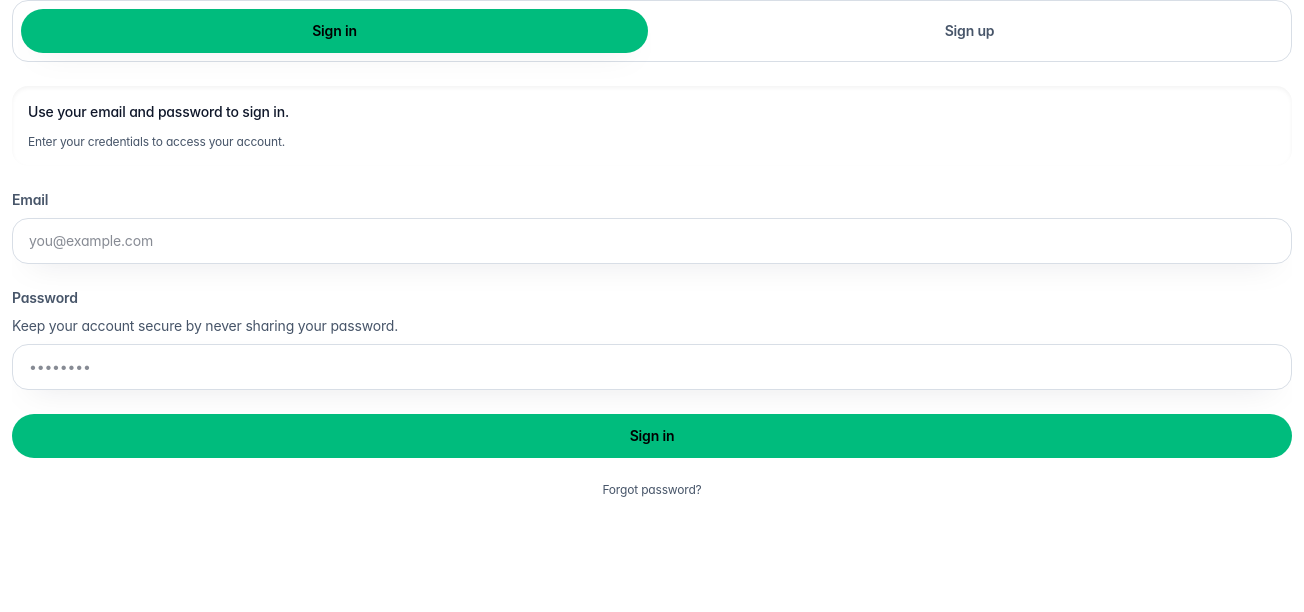
Test case: LoginForm › sign-up without immediate session prompts for email confirmation
The image size is (1304, 612).
Click the button "Sign up" at {"x": 970, "y": 31}, box [656,9,1283,53]
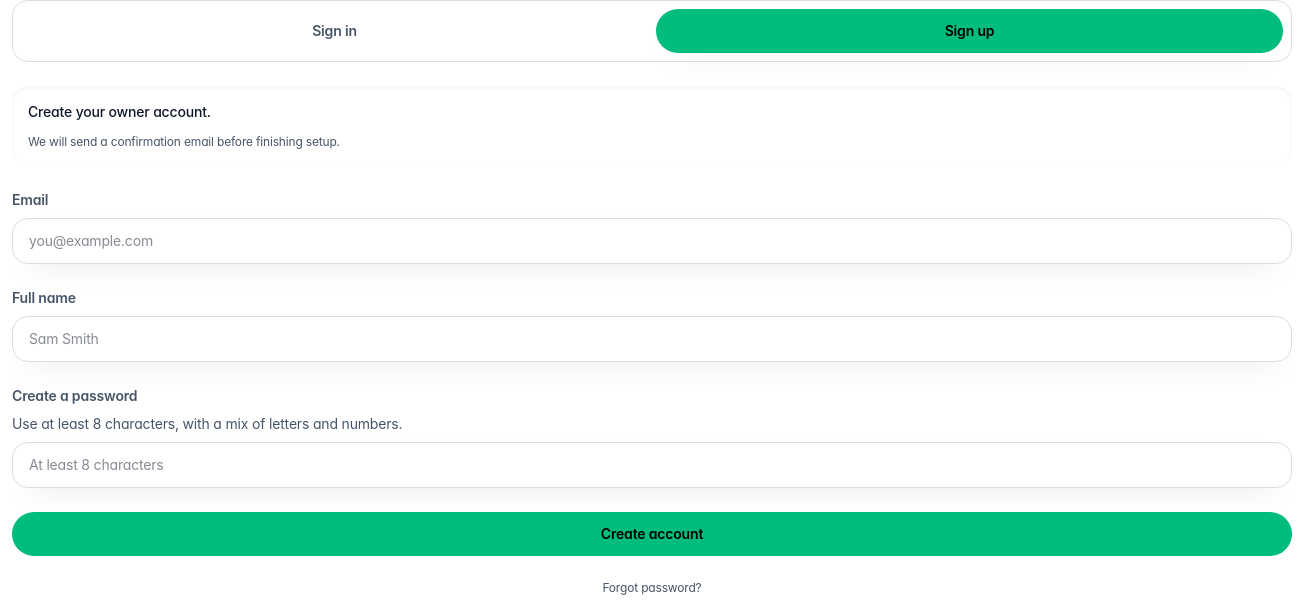
Type "new@example.com" into the field labelled "Email" at {"x": 652, "y": 241}, box [12,218,1292,264]
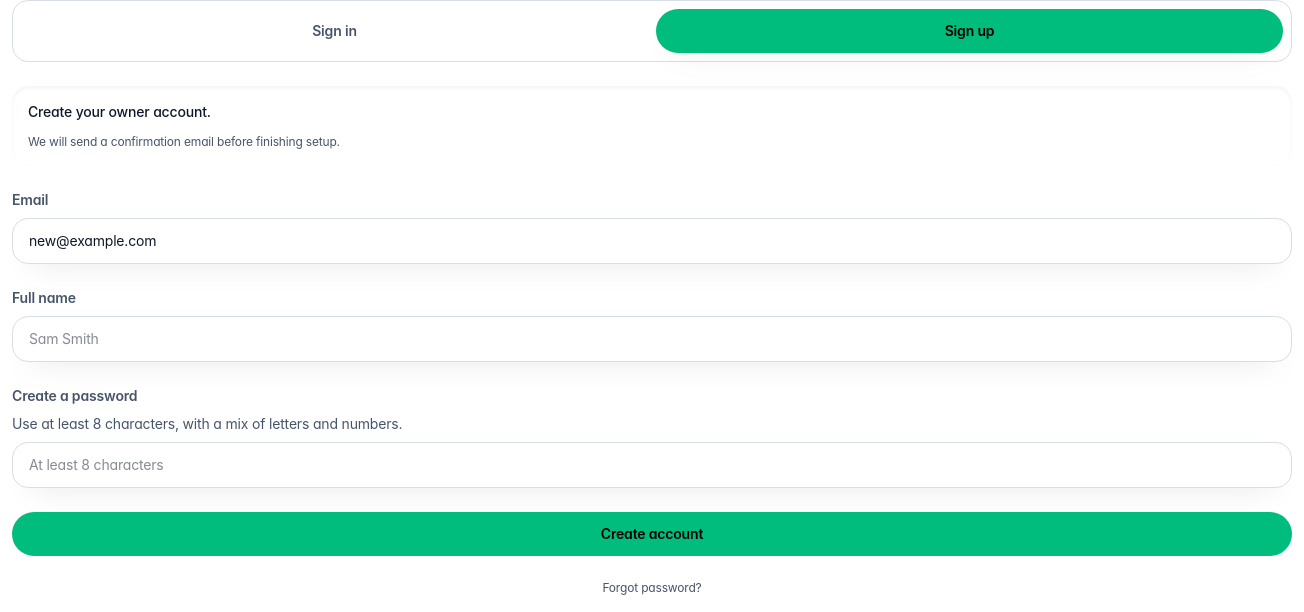
Type "New Owner" into the field labelled "Full name" at {"x": 652, "y": 339}, box [12,316,1292,362]
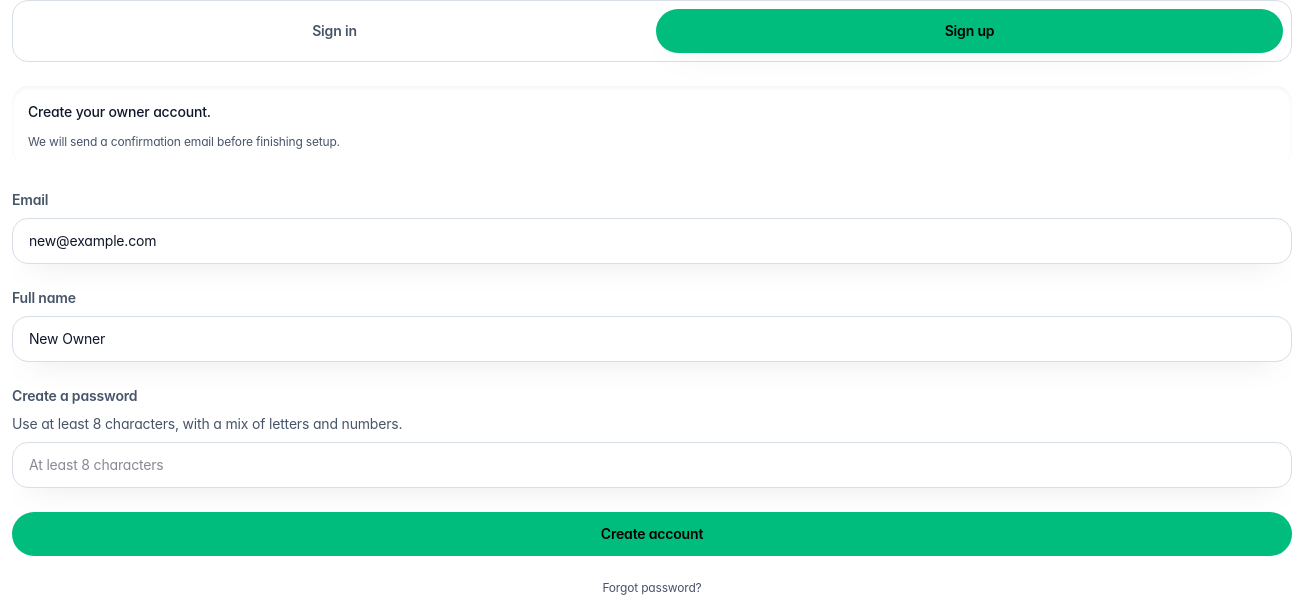
Type "secret123" into the password field labelled "Create a password" at {"x": 652, "y": 465}, box [12,442,1292,488]
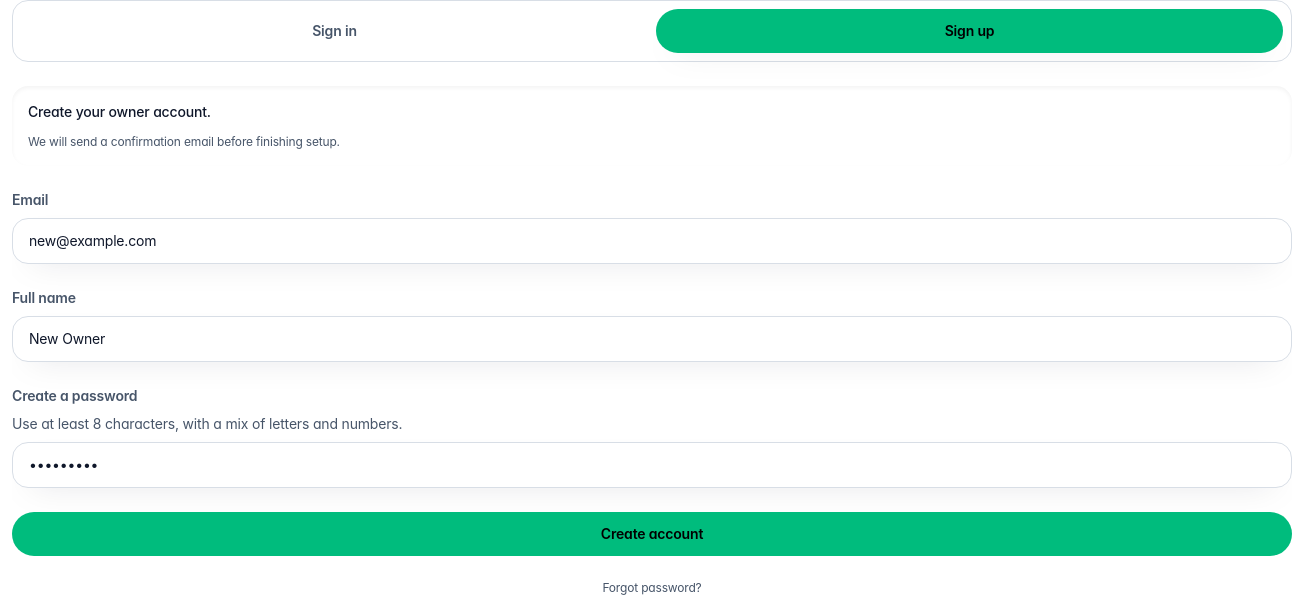
Click the button "Create account" at {"x": 652, "y": 534}, box [12,512,1292,556]
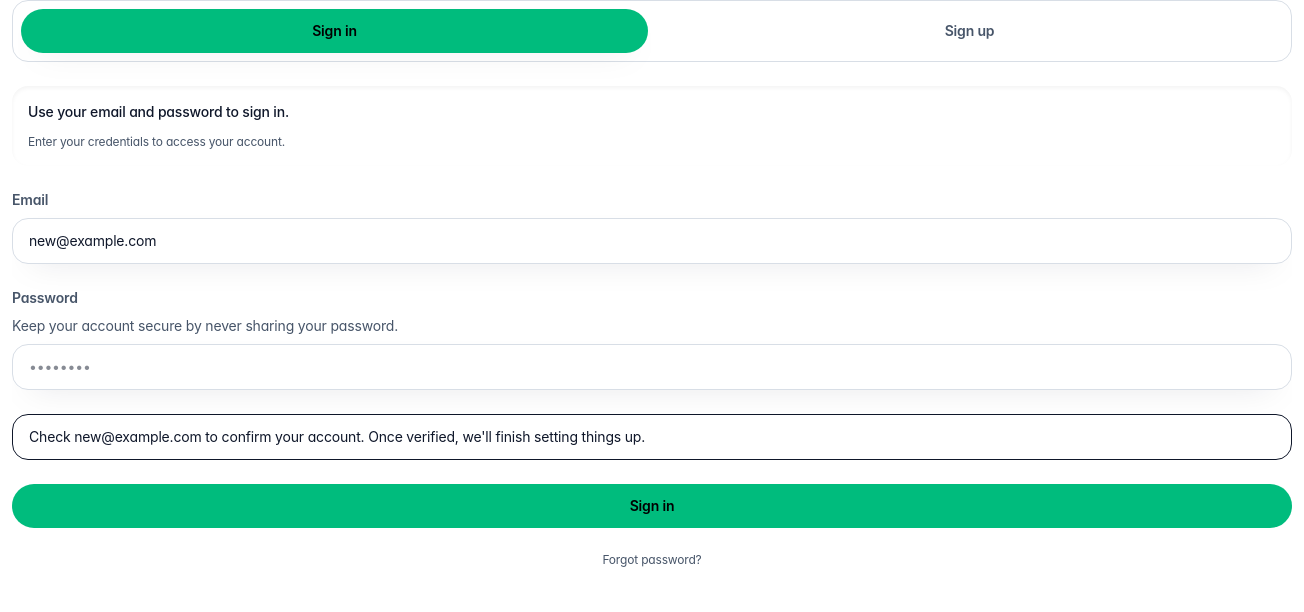
Expected: the text "Check new@example.com to confirm your account" is shown, [29,428,645,445]
